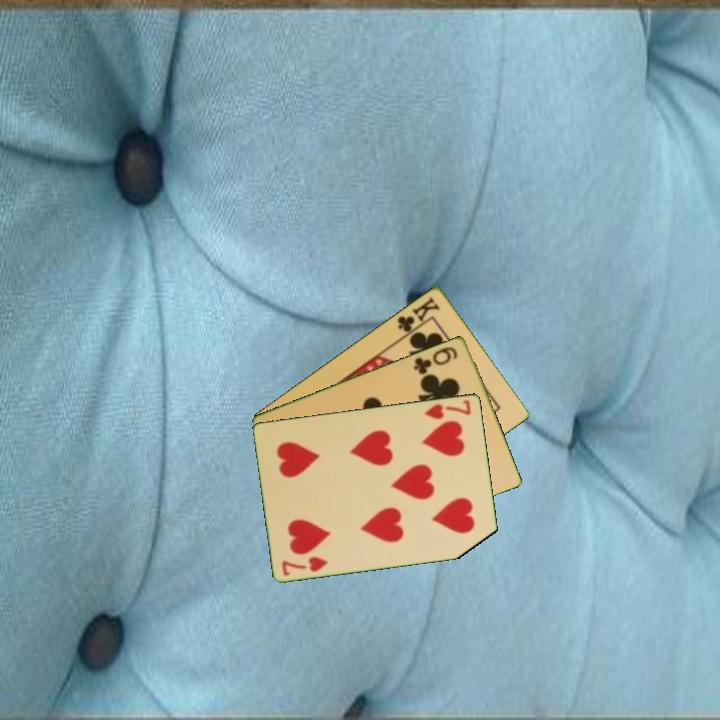6c: (410, 343, 461, 377)
7h: (421, 396, 474, 422), (278, 552, 331, 578)
Kc: (394, 293, 443, 340)
